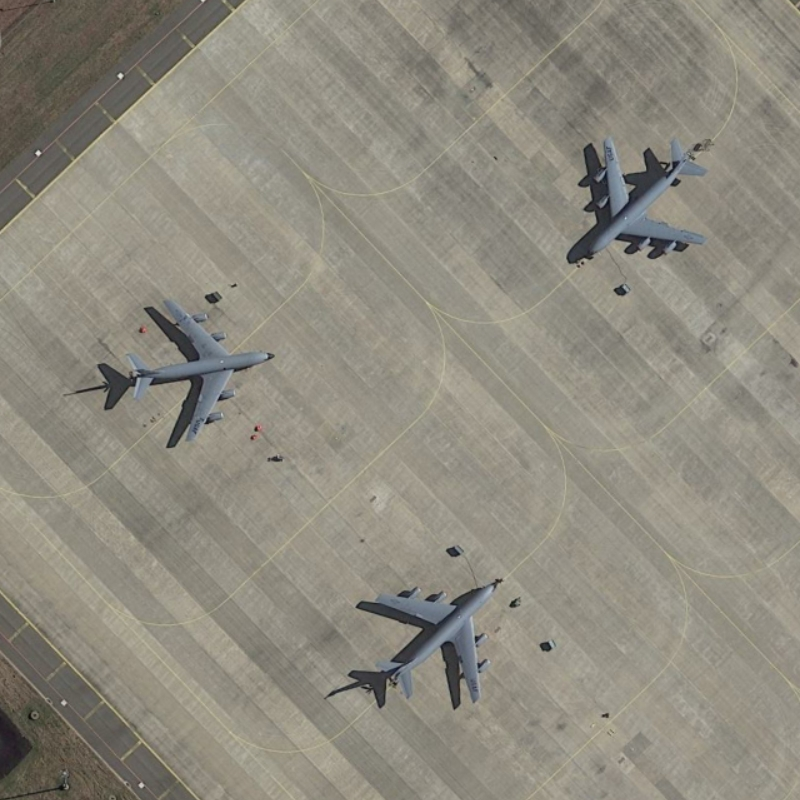A14: (126, 292, 277, 447), (369, 566, 509, 714), (577, 129, 717, 262)
